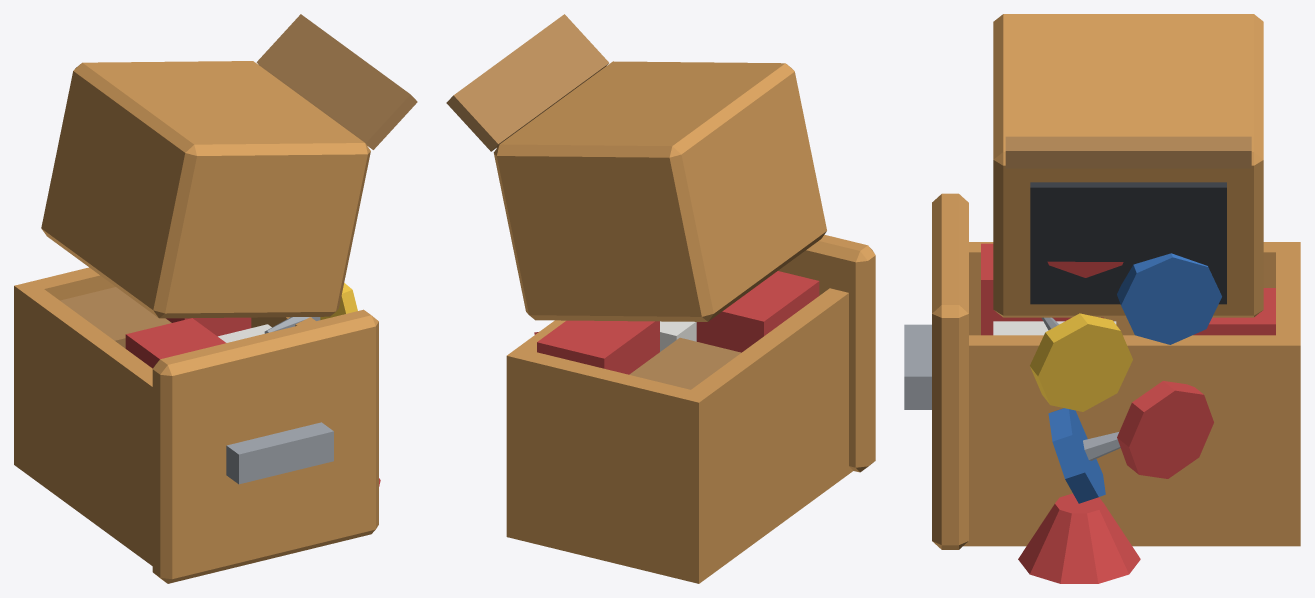
Rendered from thumbtacks_m1_2.glb.
The picture shows the model from 3 angles, left to right: view 1: azimuth 30°, elevation 25°; view 2: azimuth 150°, elevation 25°; view 3: azimuth 270°, elevation 25°; orthographic projection. The views are drawn at different scales.
Visible parts, largest first — view 1: thumbtacks_m1_2_mesh; view 2: thumbtacks_m1_2_mesh; view 3: thumbtacks_m1_2_mesh.
Part boxes in pixels (x1,y1,x2,y2): thumbtacks_m1_2_mesh: (14, 14, 417, 583); thumbtacks_m1_2_mesh: (446, 14, 875, 583); thumbtacks_m1_2_mesh: (904, 14, 1300, 583).
Bounding box in the file's own units: 0.3008 × 0.4078 × 0.3225.
